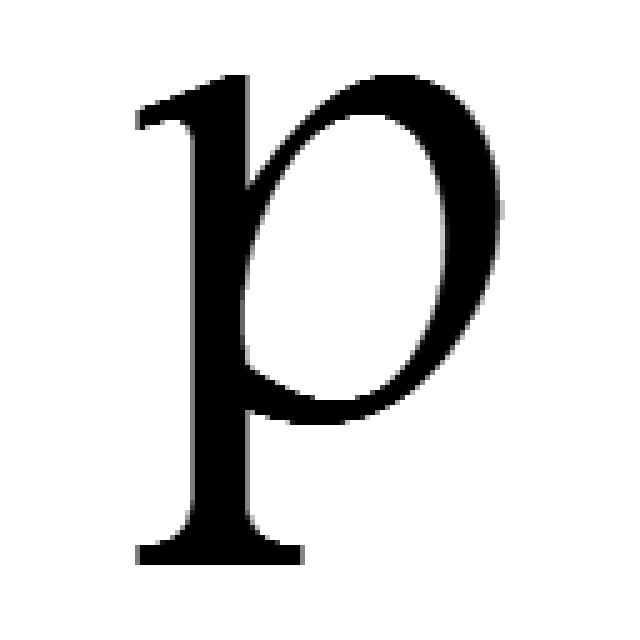P: (135, 75, 505, 570)
